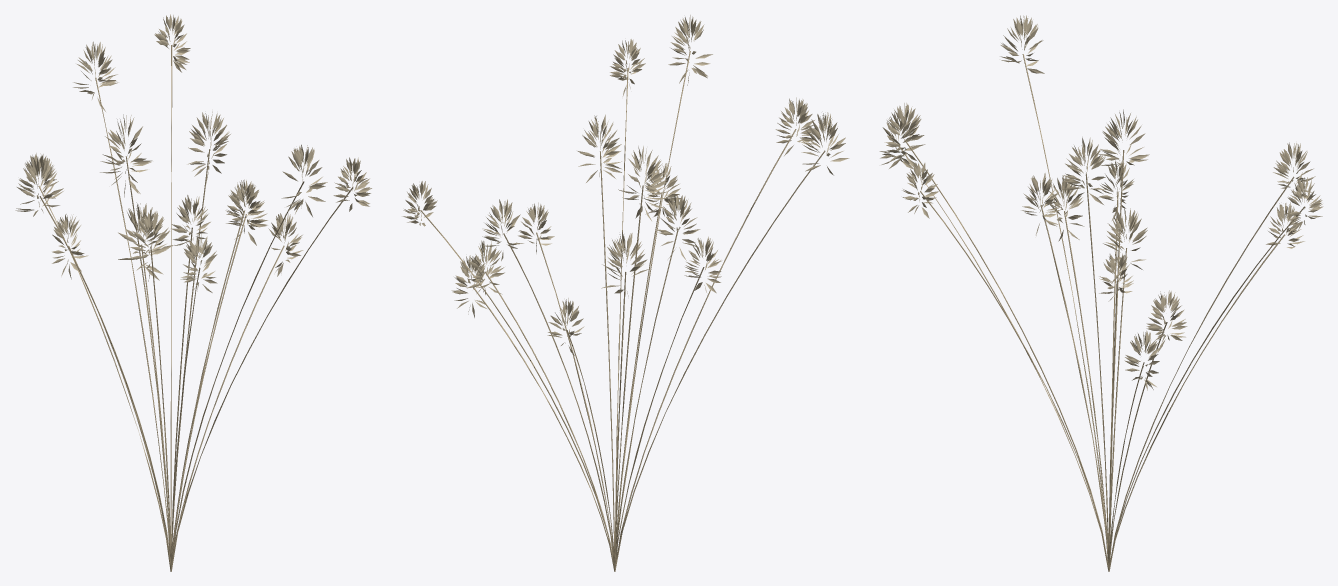
File: bunny-2.glb
The picture shows the model from 3 angles, left to right: view 1: azimuth 30°, elevation 25°; view 2: azimuth 150°, elevation 25°; view 3: azimuth 270°, elevation 25°; orthographic projection. The views are drawn at different scales.
Visible parts, largest first — view 1: bunny-leaves, bunny-stems; view 2: bunny-leaves, bunny-stems; view 3: bunny-leaves, bunny-stems.
Boxes of the visible parts, x1=… form: bunny-leaves: x1=15, y1=14, x2=371, y2=292; bunny-stems: x1=38, y1=45, x2=353, y2=571; bunny-leaves: x1=402, y1=15, x2=849, y2=355; bunny-stems: x1=420, y1=51, x2=825, y2=571; bunny-leaves: x1=879, y1=15, x2=1323, y2=390; bunny-stems: x1=898, y1=54, x2=1304, y2=571.
Size of the model in its own units: 0.4918 by 0.6763 by 0.5685.
